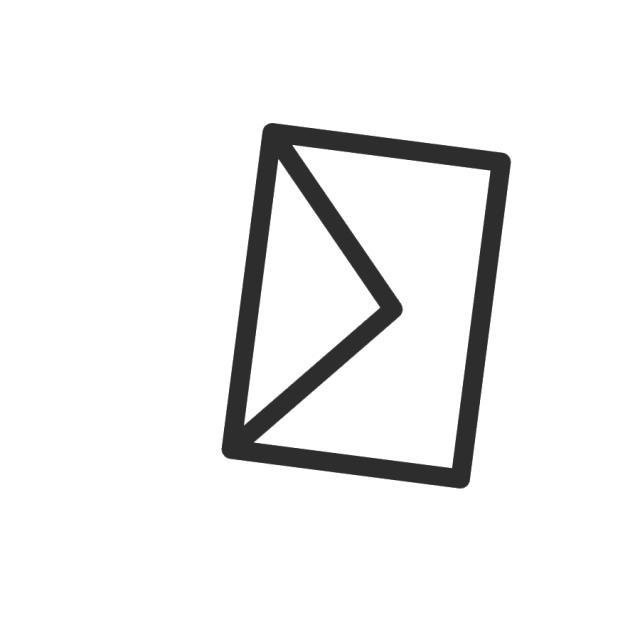letter: (217, 122, 518, 496)
